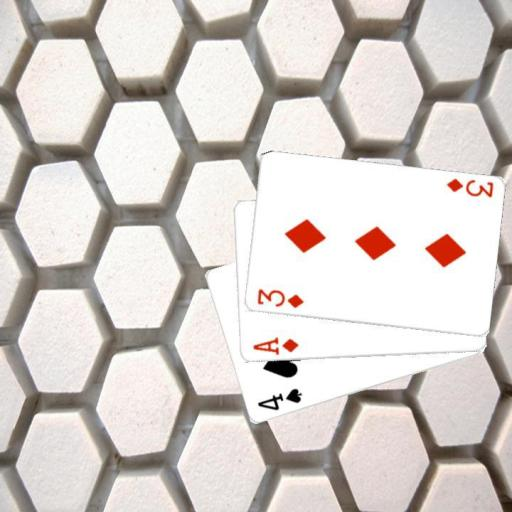3D: (253, 285, 305, 310), (443, 176, 494, 199)
4S: (254, 386, 303, 413)
AD: (250, 334, 300, 356)
